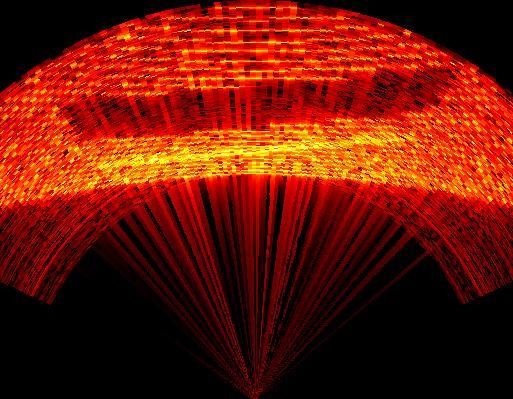pipe: (60, 65, 466, 155)
